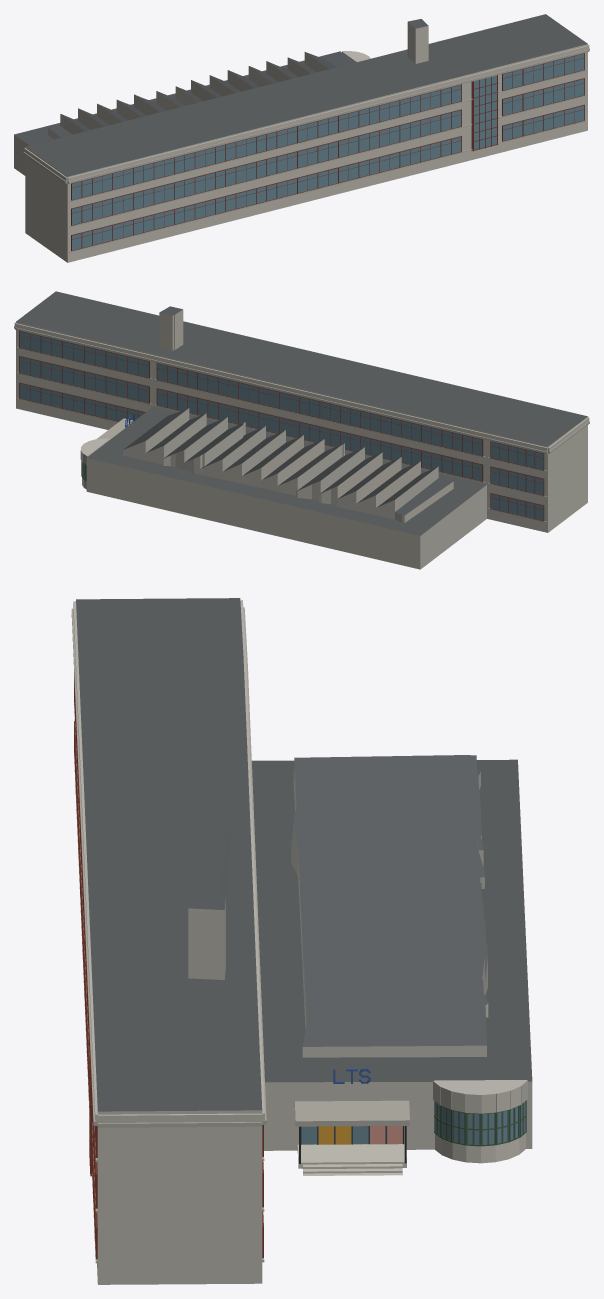
File: de-school.glb
3 renders of one model, top to bottom at view 1: azimuth 30°, elevation 25°; view 2: azimuth 150°, elevation 25°; view 3: azimuth 270°, elevation 25°, orthographic. The views are drawn at different scales.
Parts seen in each view (by area): view 1: de-school; view 2: de-school; view 3: de-school.
Boxes of the visible parts, x1,y1,x2,y2 form: de-school: (14,14,589,262); de-school: (14,291,589,569); de-school: (71,598,532,1284).
Size of the model in its own units: 83.54 by 18.32 by 31.39.
